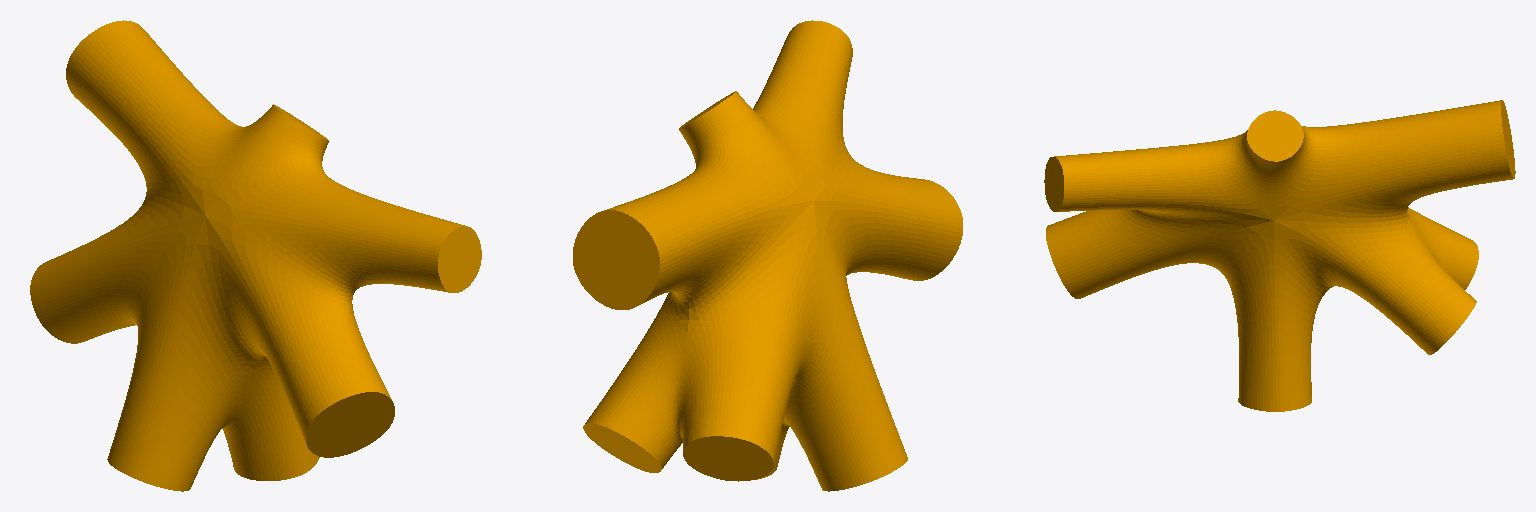
URDF robot description (object):
<robot name="object">
  <link name="object">
    <visual>
      <origin xyz="0 0 0"/>
      <geometry>
        <mesh filename="visual.obj" scale="1 1 1"/>
      </geometry>
    </visual>
    <collision>
      <origin xyz="0 0 0"/>
      <geometry>
        <mesh filename="visual.obj" scale="1 1 1"/>
      </geometry>
    </collision>
    <inertial>
      <mass value="0.05"/>
      <inertia ixx="6.485461201254574e-05" iyy="2.697013618790579e-05" izz="4.957487080287538e-05" ixy="2.756849393969121e-06" ixz="-4.4556197695763985e-06" iyz="4.039878176719336e-07"/>
    </inertial>
  </link>
</robot>

--- What the picture shows (computed from the rendered views, not written in the file) ---
3 views of the same robot in one strip: view 1: azimuth 30°, elevation 25°; view 2: azimuth 150°, elevation 25°; view 3: azimuth 270°, elevation 25° (orthographic).
Robot: object — 1 links, 0 joints (none); root link object; default pose: every joint at zero.
Links seen in each view (by area): view 1: object; view 2: object; view 3: object.
Boxes of the visible links, left/top/right/bottom form: object: left=30, top=20, right=481, bottom=491; object: left=573, top=20, right=962, bottom=491; object: left=1044, top=100, right=1515, bottom=411.
Size in the robot's own frame: 0.0661 by 0.135 by 0.0935 metres.
1 mesh visuals loaded from 1 distinct referenced files (1 OBJ).
